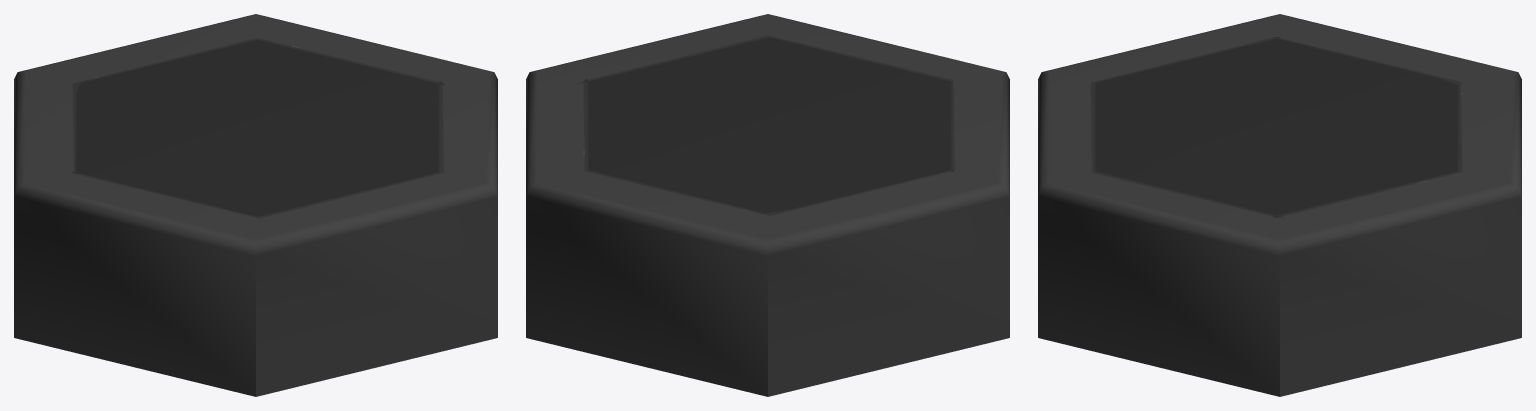
Rendered from HEX_bakedTexture.fbx.
3 views of the same model, side by side, from view 1: azimuth 30°, elevation 25°; view 2: azimuth 150°, elevation 25°; view 3: azimuth 270°, elevation 25° (orthographic).
Parts seen in each view (by area): view 1: hexBlock:polySurface1; view 2: hexBlock:polySurface1; view 3: hexBlock:polySurface1.
Part boxes in pixels (box(x1,y1,x2,y2)): hexBlock:polySurface1: box(14, 14, 497, 396); hexBlock:polySurface1: box(526, 14, 1009, 396); hexBlock:polySurface1: box(1038, 14, 1521, 396).
Bounding box in the file's own units: 1 × 0.3 × 0.866.
